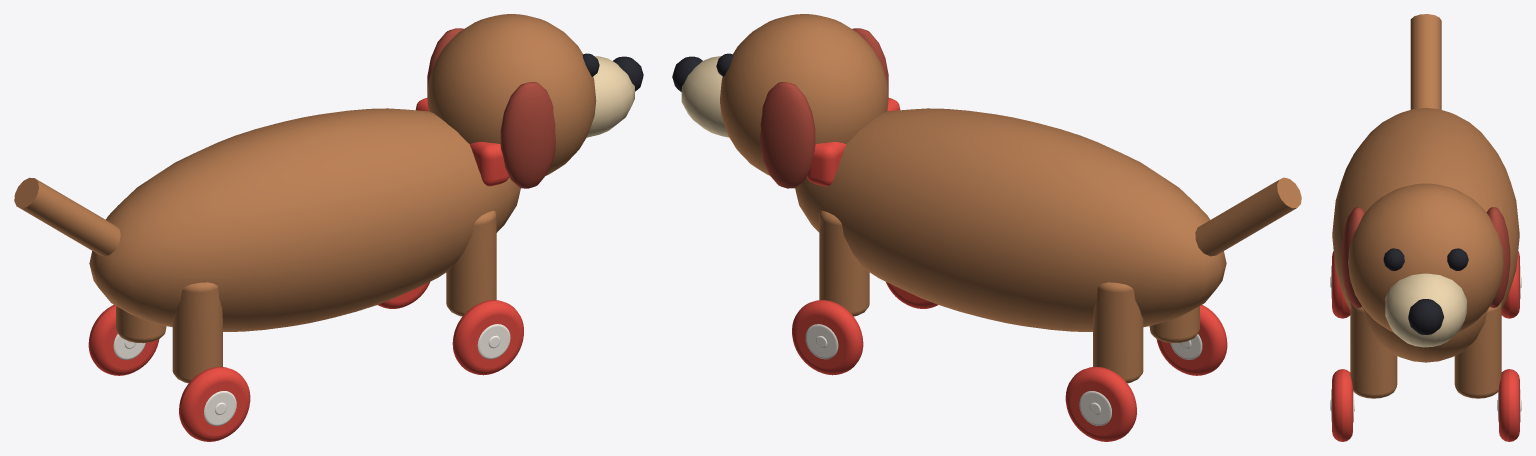
File: dog.glb
3 renders of one model, left to right at view 1: azimuth 30°, elevation 25°; view 2: azimuth 150°, elevation 25°; view 3: azimuth 270°, elevation 25°, orthographic. The views are drawn at different scales.
Visible parts, largest first — view 1: dog; view 2: dog; view 3: dog.
Boxes of the visible parts, x1,y1,x2,y2 form: dog: [14, 14, 643, 441]; dog: [672, 14, 1301, 441]; dog: [1330, 14, 1521, 441].
Size of the model in its own units: 1.28 by 0.5899 by 0.3664.
Materials: 1 (1 with a texture image).
